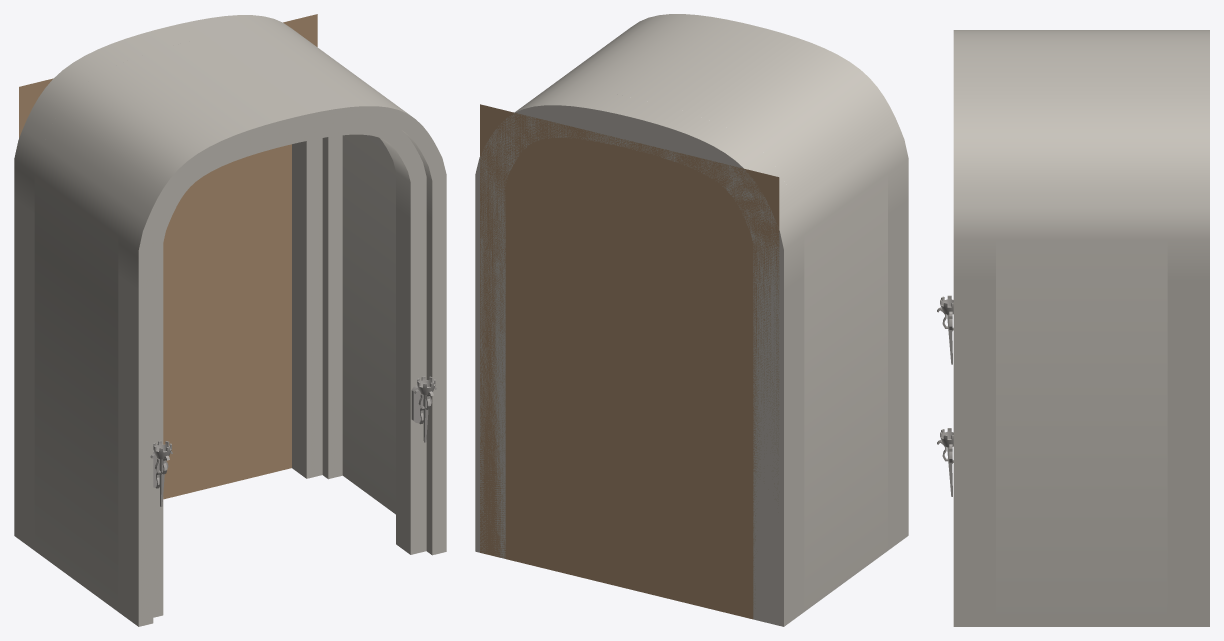
Rendered from kb3d_gate_b.glb.
The picture shows the model from 3 angles, left to right: view 1: azimuth 30°, elevation 25°; view 2: azimuth 150°, elevation 25°; view 3: azimuth 270°, elevation 25°; orthographic projection. The views are drawn at different scales.
Parts seen in each view (by area): view 1: EXPORT_kb3d_gate_b; view 2: EXPORT_kb3d_gate_b; view 3: EXPORT_kb3d_gate_b.
Boxes of the visible parts, x1,y1,x2,y2 form: EXPORT_kb3d_gate_b: (14,14,446,626); EXPORT_kb3d_gate_b: (475,14,908,626); EXPORT_kb3d_gate_b: (937,30,1209,626).
Size of the model in its own units: 3.93 by 5.75 by 2.93.
